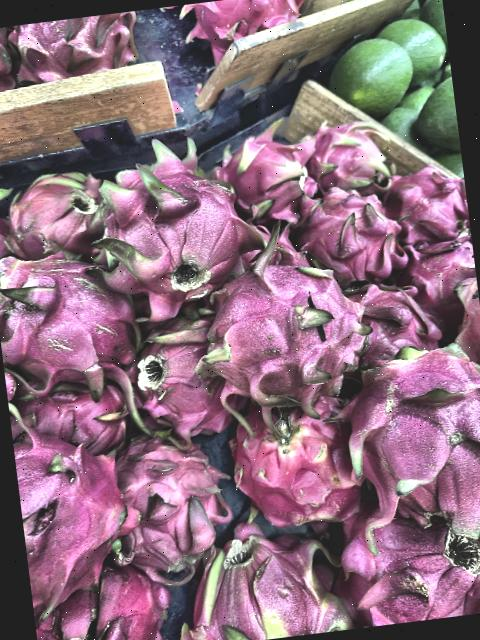buah-naga-matang: (6, 370, 154, 606), (72, 140, 267, 302), (336, 335, 480, 547), (196, 238, 372, 402), (0, 240, 141, 401), (228, 387, 369, 533), (332, 493, 480, 629), (185, 520, 350, 640), (101, 427, 230, 574), (32, 545, 180, 640), (8, 10, 150, 95), (280, 185, 398, 286), (126, 326, 236, 434), (208, 129, 324, 227), (6, 367, 128, 459), (341, 262, 444, 366), (302, 108, 410, 203), (372, 162, 472, 255), (2, 172, 104, 260), (390, 238, 477, 318), (180, 0, 304, 56)
